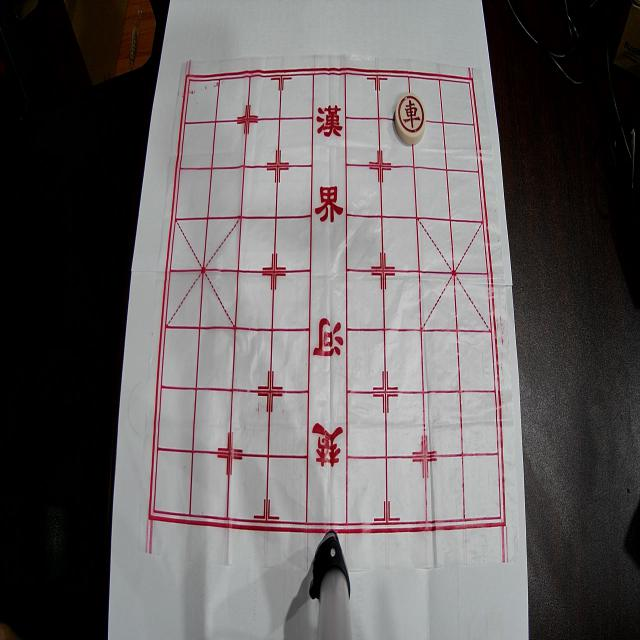red-chariot: (394, 93, 426, 145)
